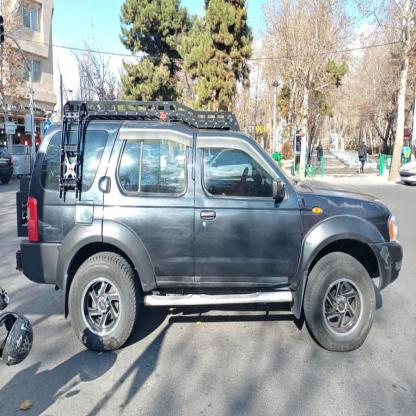car: (18, 106, 408, 362)
